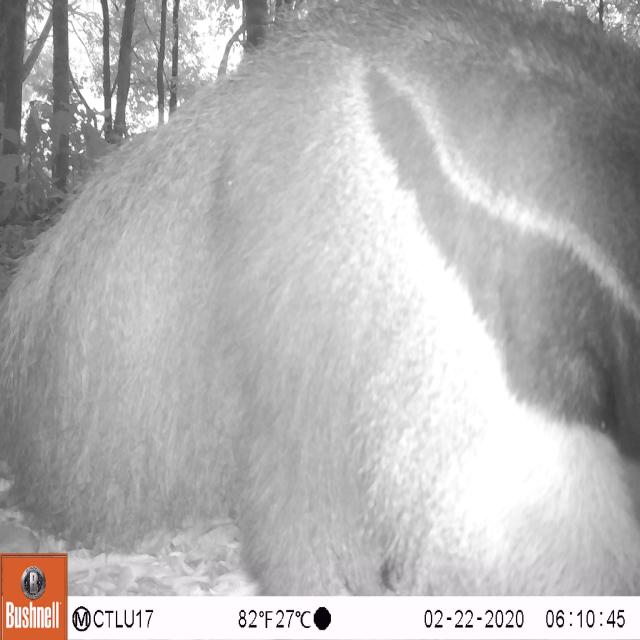Giant Anteater: (1, 1, 640, 590)
